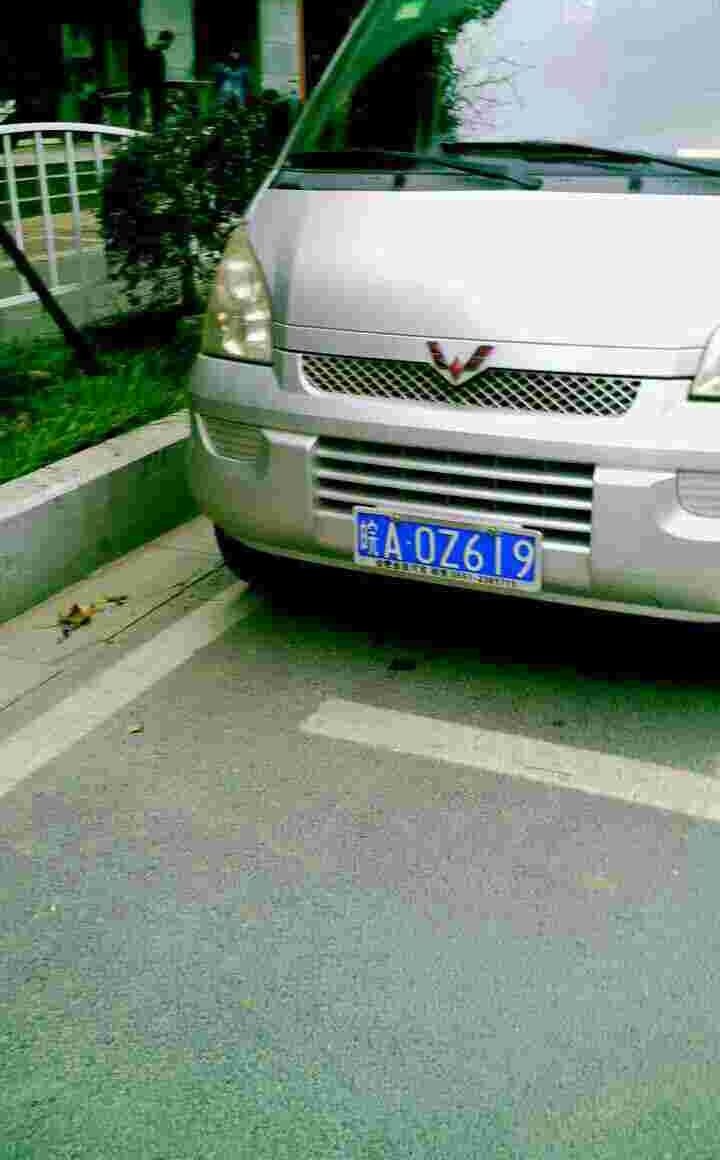car: (350, 502, 554, 596)
